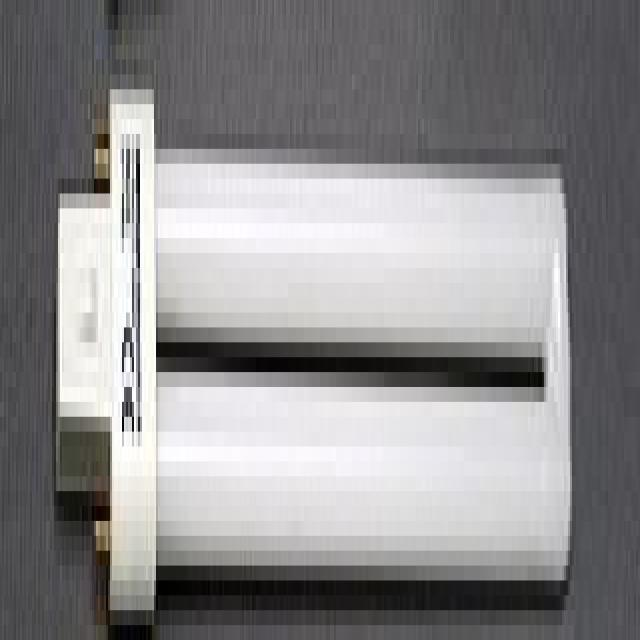bulb: (14, 0, 640, 625)
